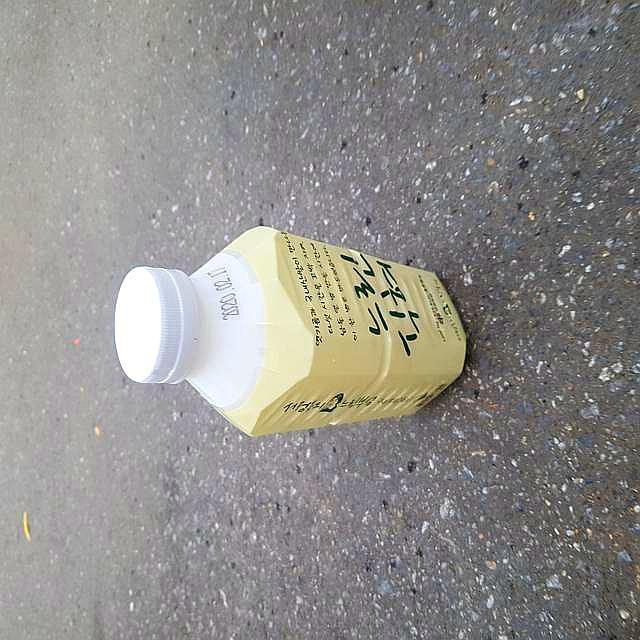Non-biodegradable: (113, 223, 470, 440)
